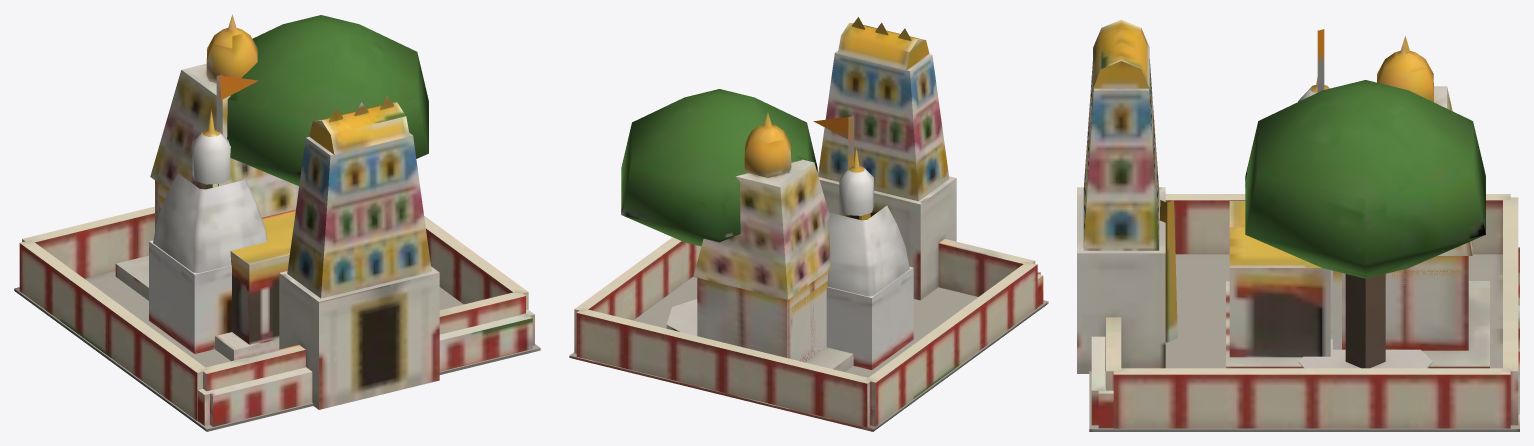
The model's file is kit_temple.glb.
3 renders of one model, left to right at view 1: azimuth 30°, elevation 25°; view 2: azimuth 150°, elevation 25°; view 3: azimuth 270°, elevation 25°, orthographic. The views are drawn at different scales.
Parts seen in each view (by area): view 1: var_gopuram, var_shrine, var_vimana, kit_temple_body; view 2: var_gopuram, var_shrine, var_vimana, kit_temple_body; view 3: var_gopuram, var_shrine, var_vimana, kit_temple_body.
Boxes of the visible parts, box(x1,y1,x2,y2) form: var_gopuram: box(19, 96, 528, 420); var_shrine: box(149, 15, 428, 353); var_vimana: box(115, 14, 534, 426); kit_temple_body: box(14, 271, 540, 431); var_gopuram: box(574, 17, 1037, 427); var_shrine: box(621, 89, 913, 369); var_vimana: box(693, 112, 1043, 426); kit_temple_body: box(569, 277, 1048, 431); var_gopuram: box(1077, 20, 1518, 428); var_shrine: box(1245, 29, 1485, 368); var_vimana: box(1091, 36, 1517, 428); kit_temple_body: box(1089, 247, 1519, 431).
Bounding box in the file's own units: 29.2 × 22.63 × 29.
Materials: 1 (1 with a texture image).
